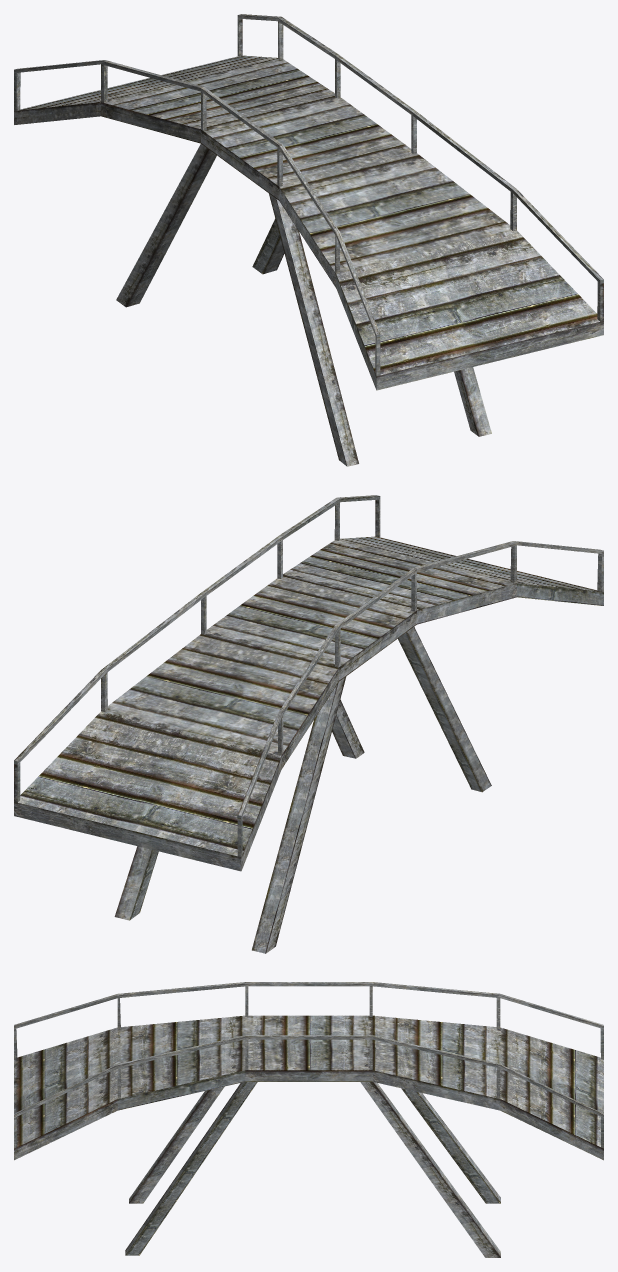
The model's file is woodenWall.fbx.
3 views of the same model, one above another, from view 1: azimuth 30°, elevation 25°; view 2: azimuth 150°, elevation 25°; view 3: azimuth 270°, elevation 25° (orthographic). The views are drawn at different scales.
Visible parts, largest first — view 1: bridge8, bridge64; view 2: bridge8, bridge64; view 3: bridge8, bridge64.
Part boxes in pixels (left/top/right/bottom): bridge8: left=14, top=55, right=603, bottom=466; bridge64: left=14, top=14, right=603, bottom=376; bridge8: left=14, top=536, right=603, bottom=953; bridge64: left=14, top=495, right=603, bottom=857; bridge8: left=14, top=1015, right=603, bottom=1257; bridge64: left=14, top=982, right=603, bottom=1148.
Bounding box in the file's own units: 5.85 × 6.59 × 16.14.
